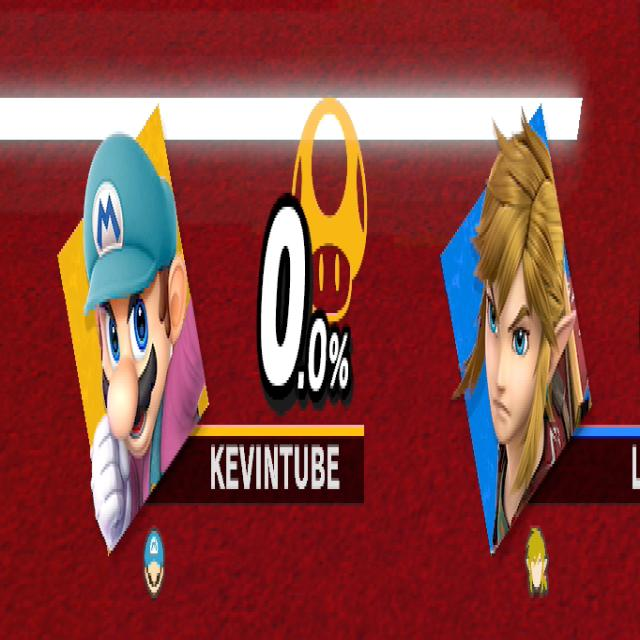link: (474, 108, 585, 546)
mario: (80, 126, 204, 555)
